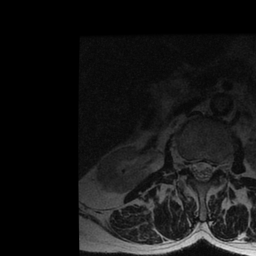CCS_normal: (198, 152, 206, 188)
LFS_normal: (214, 154, 222, 178)
LLS_normal: (206, 153, 214, 184)
RFS_normal: (182, 149, 190, 175)
RLS_normal: (190, 152, 198, 183)
